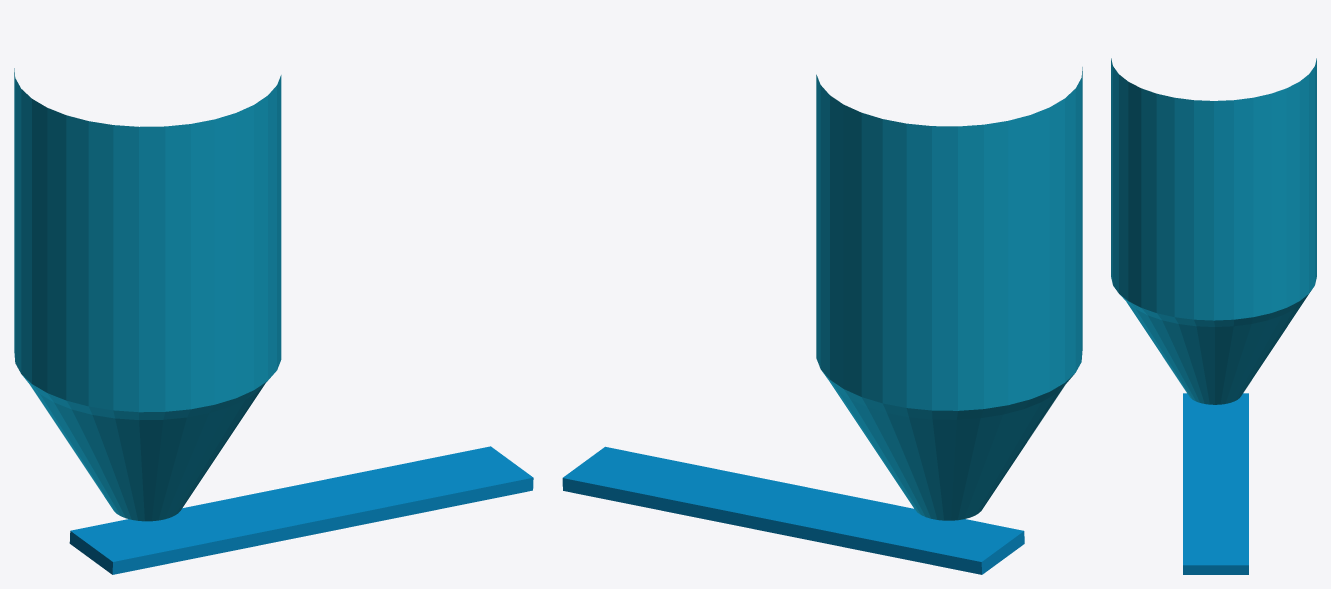
File: afb.gltf
The picture shows the model from 3 angles, left to right: view 1: azimuth 30°, elevation 25°; view 2: azimuth 150°, elevation 25°; view 3: azimuth 270°, elevation 25°; orthographic projection. The views are drawn at different scales.
Visible parts, largest first — view 1: Cylinder, Cube; view 2: Cylinder, Cube; view 3: Cylinder, Cube.
Boxes of the visible parts, x1,y1,x2,y2 form: Cylinder: (14, 68, 281, 521); Cube: (69, 446, 533, 574); Cylinder: (816, 67, 1082, 520); Cube: (562, 446, 1024, 574); Cylinder: (1111, 58, 1316, 404); Cube: (1183, 393, 1248, 574).
Size of the model in its own units: 12.99 by 12.75 by 6.25.
